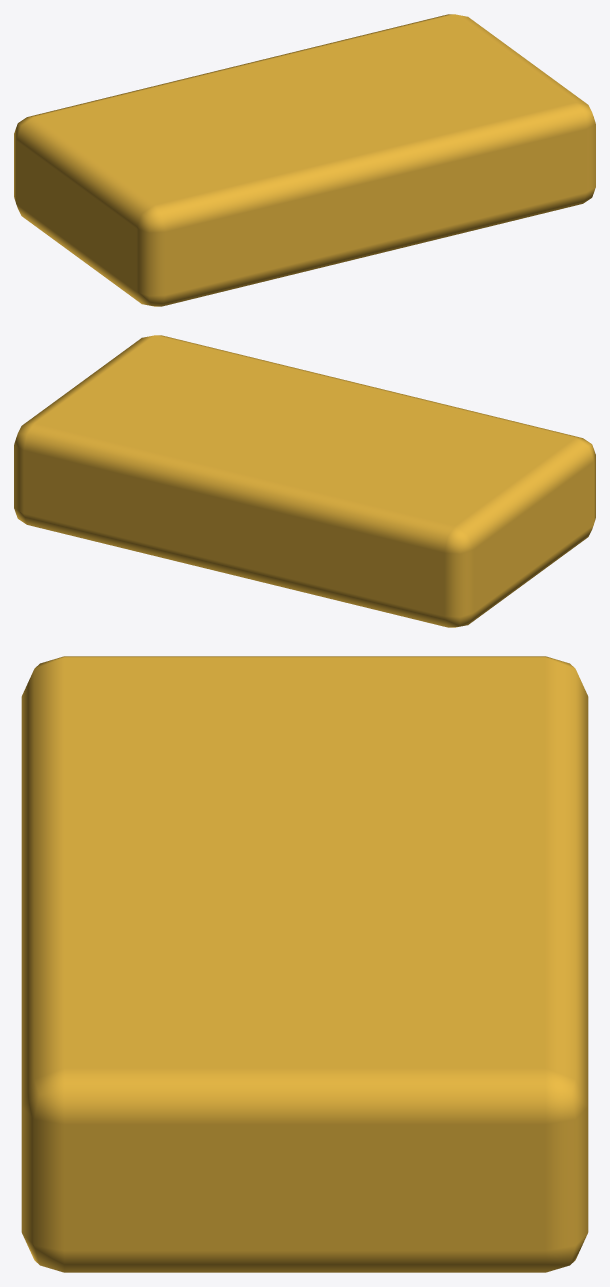
File: bar1notex.fbx
3 views of the same model, one above another, from view 1: azimuth 30°, elevation 25°; view 2: azimuth 150°, elevation 25°; view 3: azimuth 270°, elevation 25° (orthographic). The views are drawn at different scales.
Visible parts, largest first — view 1: bar1notex; view 2: bar1notex; view 3: bar1notex.
Part boxes in pixels (x1,y1,x2,y2): bar1notex: (14,14,595,306); bar1notex: (14,335,595,627); bar1notex: (21,656,588,1272).
Size of the model in its own units: 0.8922 by 0.1894 by 0.4783.
